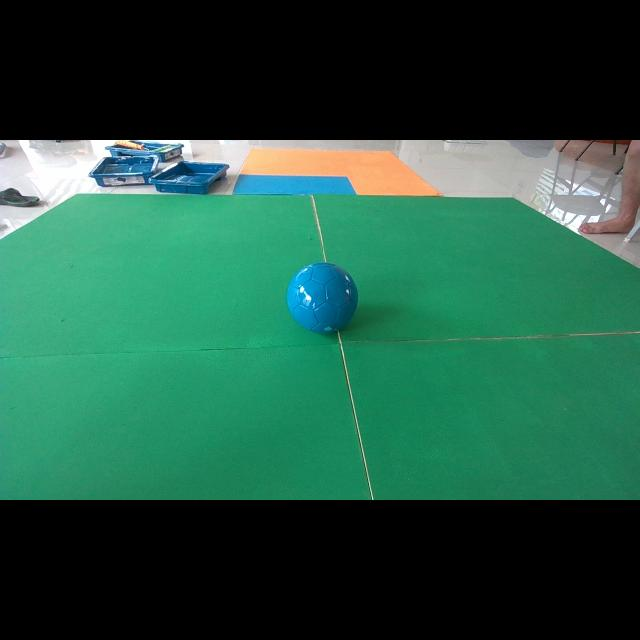B: (286, 262, 358, 334)
